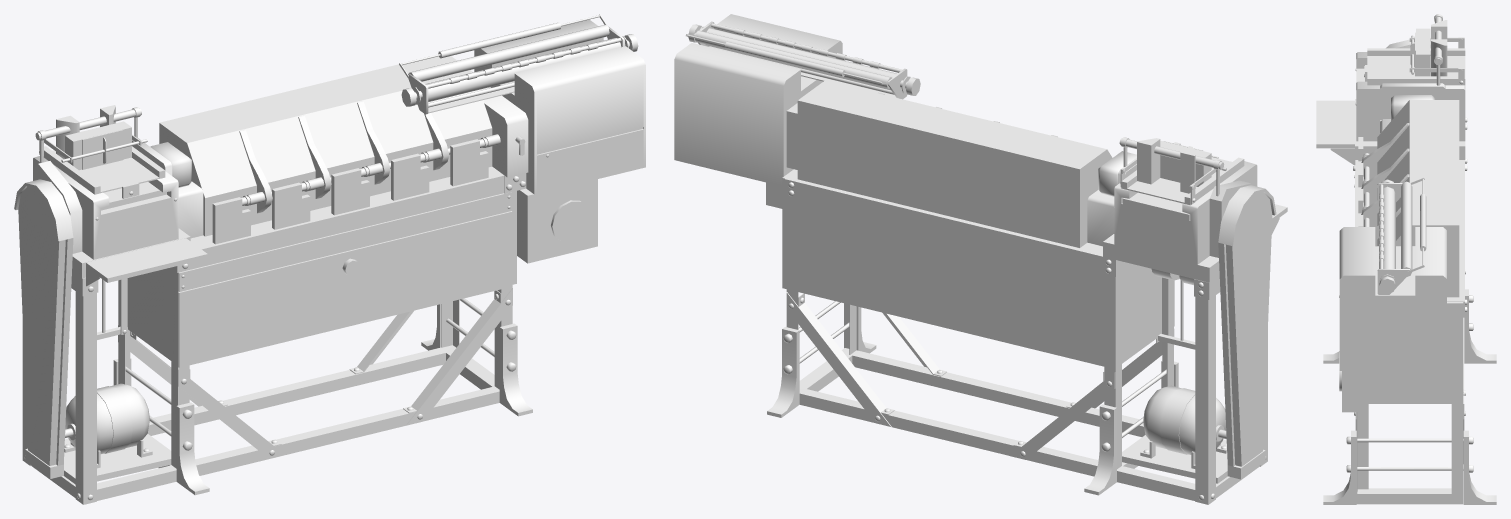
The model's file is Hollerith.fbx.
The picture shows the model from 3 angles, left to right: view 1: azimuth 30°, elevation 25°; view 2: azimuth 150°, elevation 25°; view 3: azimuth 270°, elevation 25°; orthographic projection. The views are drawn at different scales.
Visible parts, largest first — view 1: Hollerith; view 2: Hollerith; view 3: Hollerith.
Boxes of the visible parts, bbox=[...] form: Hollerith: bbox=[14, 14, 645, 504]; Hollerith: bbox=[674, 14, 1287, 504]; Hollerith: bbox=[1316, 14, 1496, 504].
Size of the model in its own units: 3.35 by 1.87 by 0.9988.
